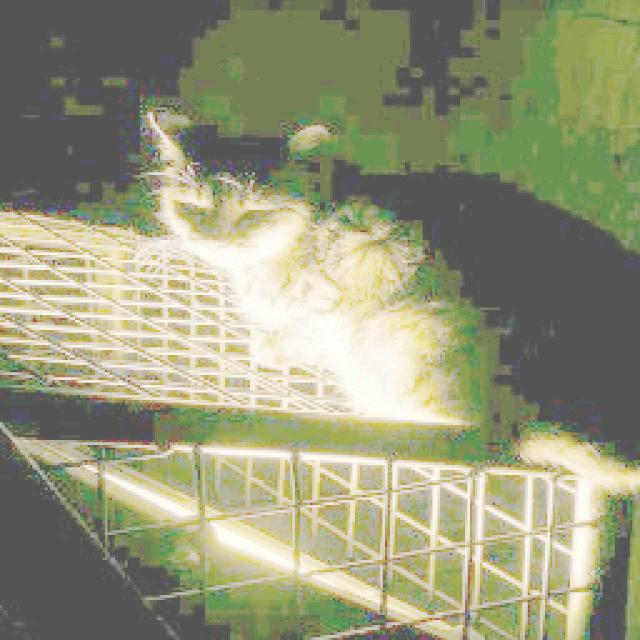cat: (107, 57, 640, 522)
